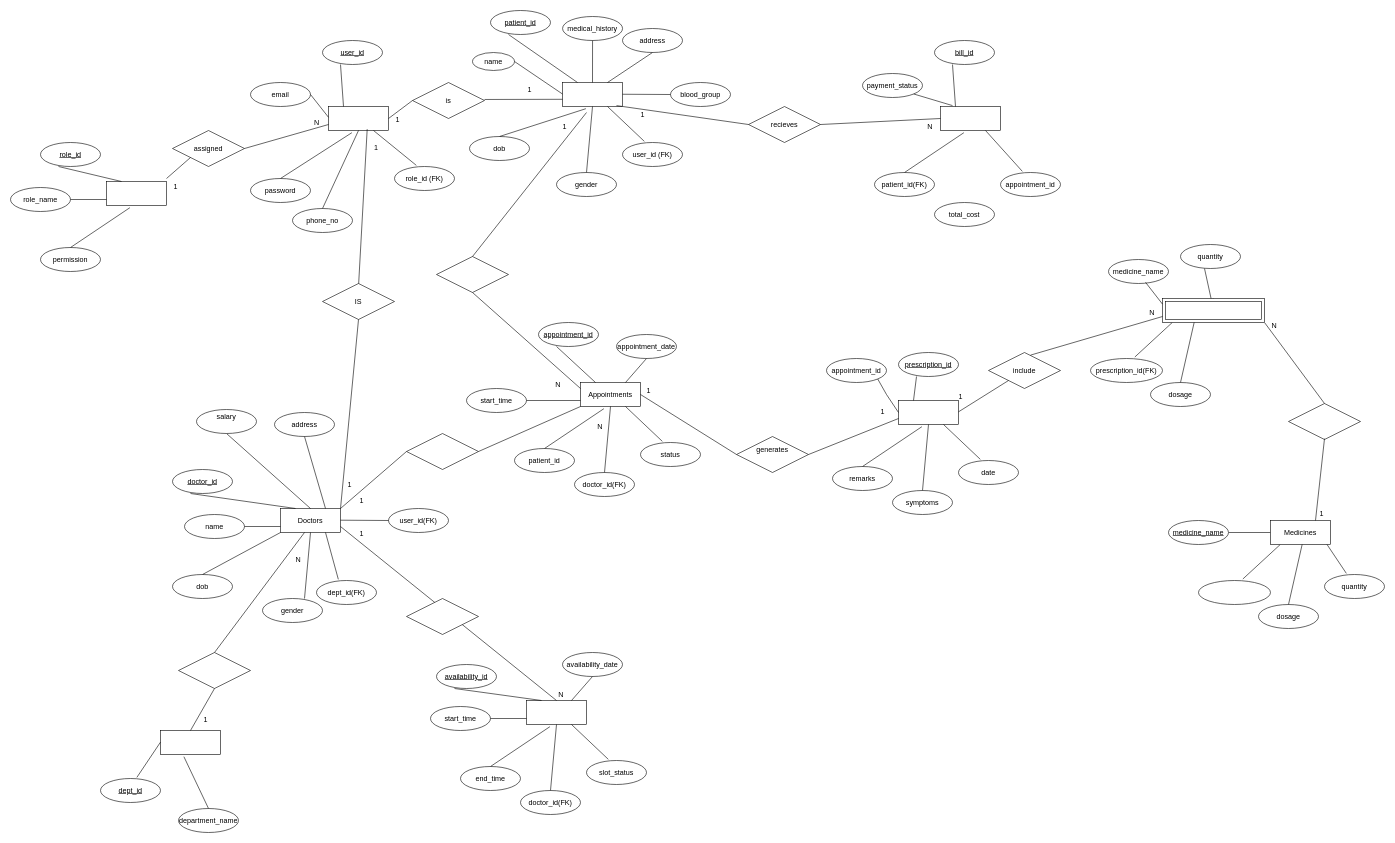
Image size: 1395x843. Some labels were removed from this diagram. The centre of each missing label's shape, as x and y in pixels:
"Availability" goes at [556,712].
"belongs" goes at [214,670].
"bills" goes at [970,118].
"books" goes at [472,274].
"Departments" goes at [190,742].
"has" goes at [442,616].
"is_prescribed_in" goes at [1324,421].
"is_sheduled" goes at [442,451].
"patients" goes at [592,94].
"prescribed_medicines" goes at [1213,310].
"prescriptions" goes at [928,412].
"price" goes at [1234,592].
"roles" goes at [136,193].
"Users" goes at [358,118].
